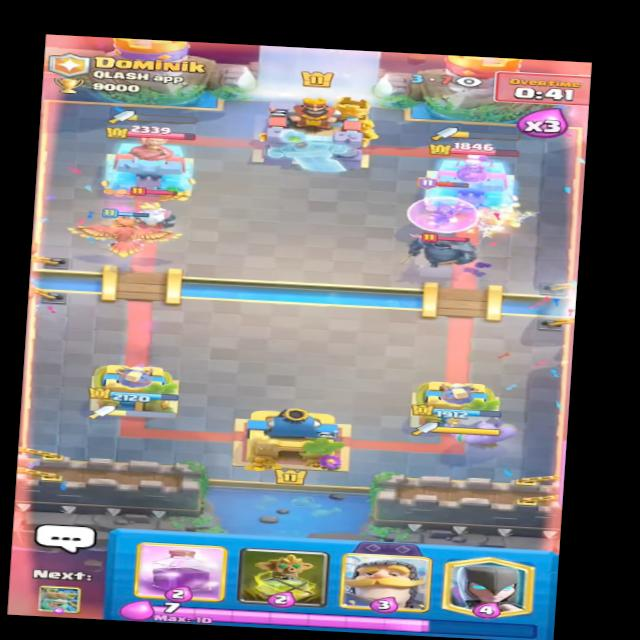evo-wizard: (394, 176, 486, 235)
pekka: (399, 227, 481, 273)
royal-ghost: (116, 182, 192, 238)
